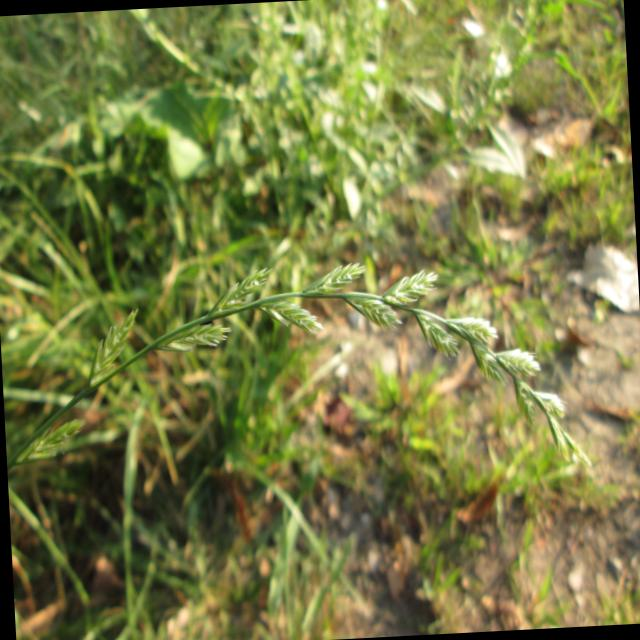Lolium: (2, 242, 596, 507)
